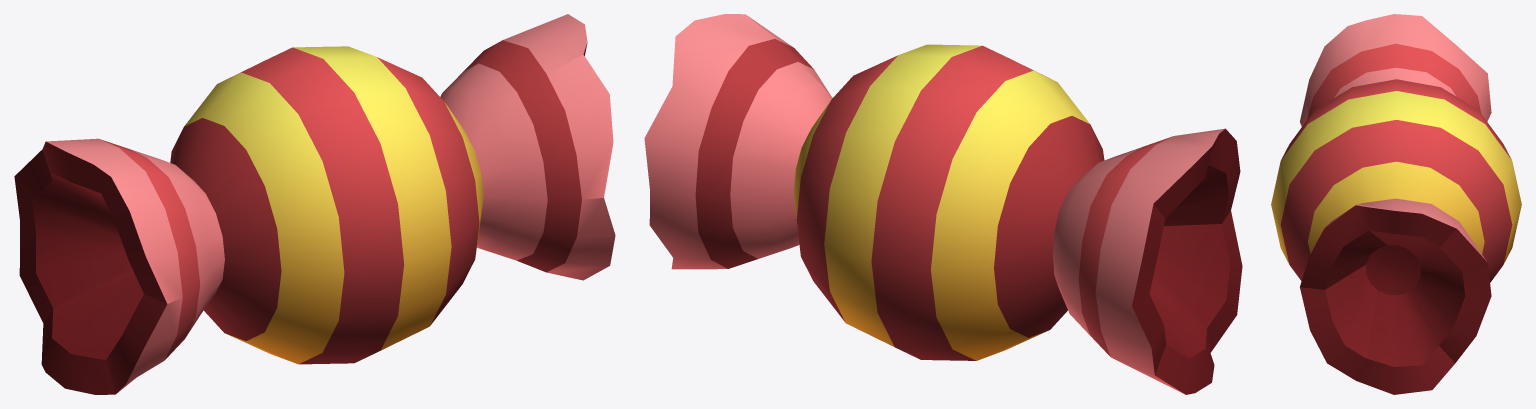
The model's file is Candy.fbx.
3 views of the same model, side by side, from view 1: azimuth 30°, elevation 25°; view 2: azimuth 150°, elevation 25°; view 3: azimuth 270°, elevation 25° (orthographic). The views are drawn at different scales.
Visible parts, largest first — view 1: Candy; view 2: Candy; view 3: Candy.
Boxes of the visible parts, x1,y1,x2,y2 form: Candy: (14,14,615,394); Candy: (644,14,1242,394); Candy: (1271,14,1521,394).
Bounding box in the file's own units: 15.03 × 8.06 × 8.06.
